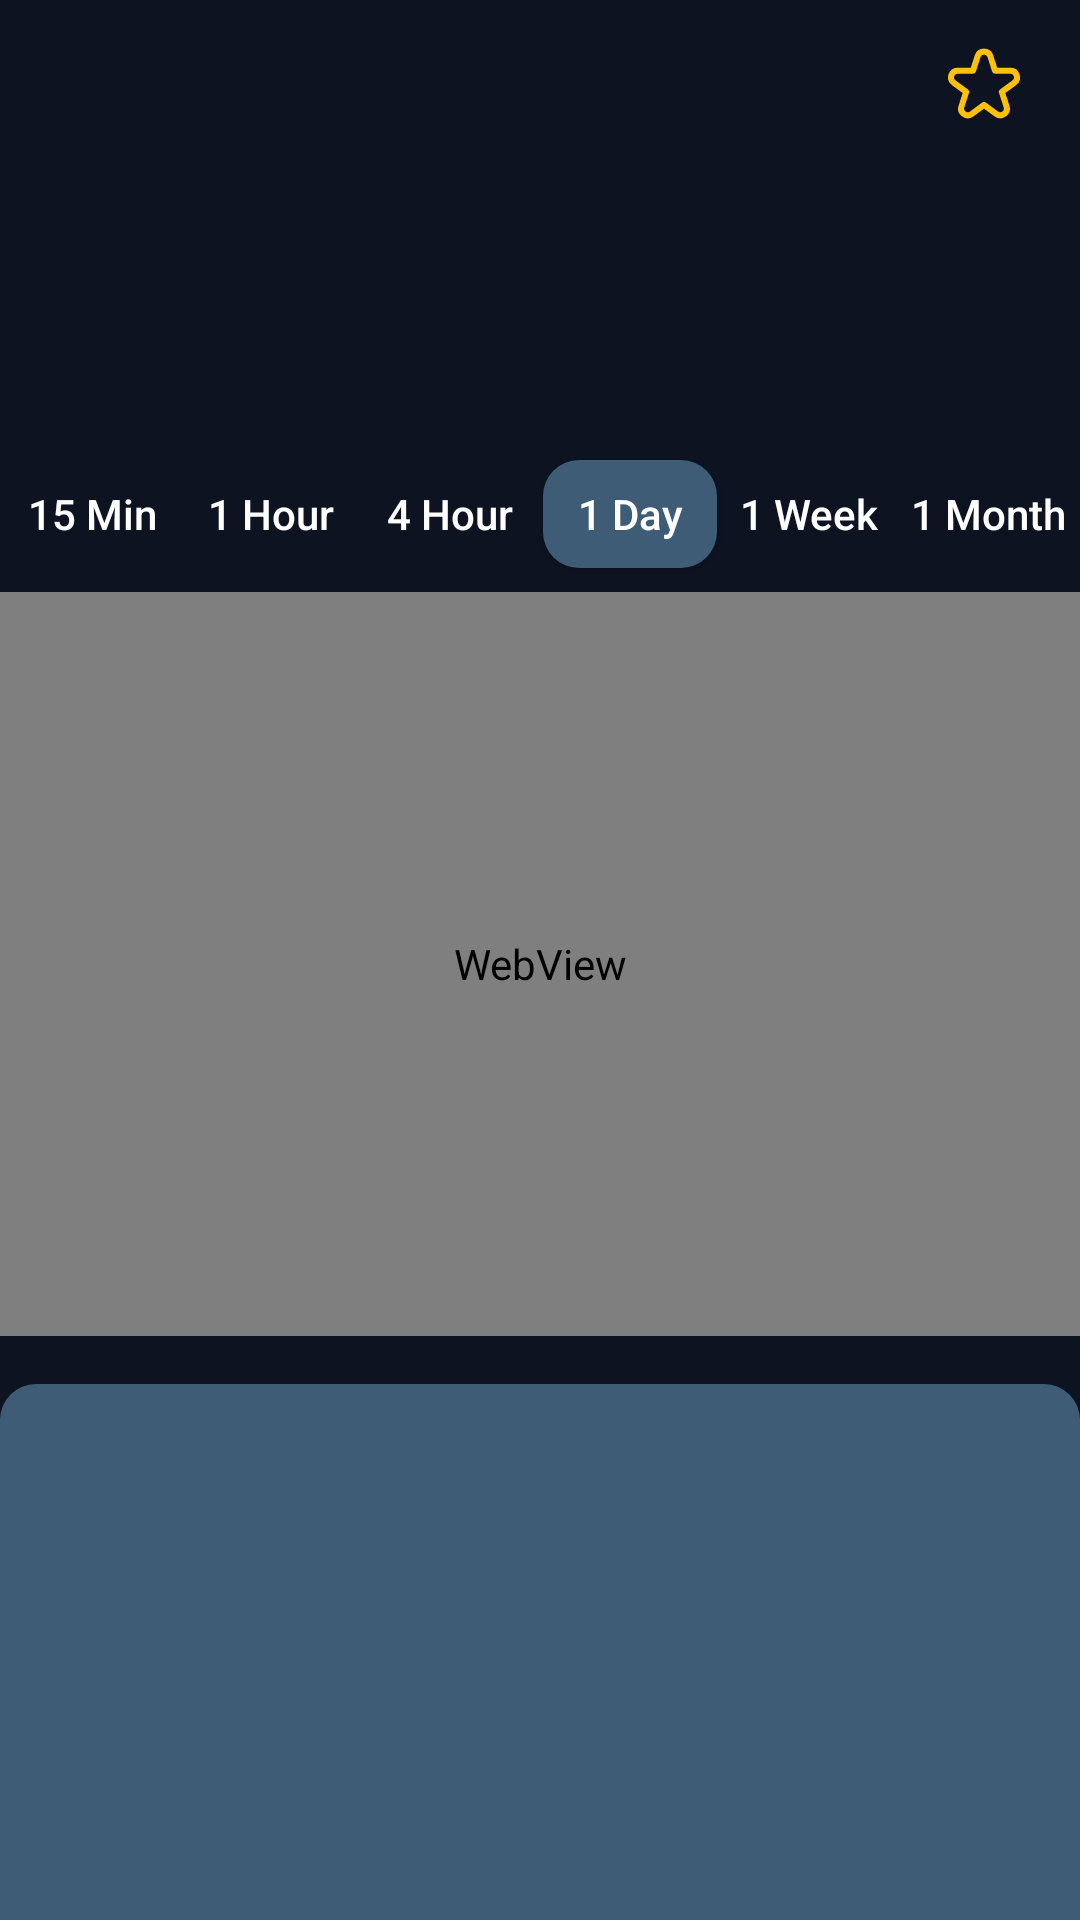

Where icons sit on this 1080px x 1920px app screen, as box(x1, y1, x2, y2):
star: box(948, 48, 1020, 119)
